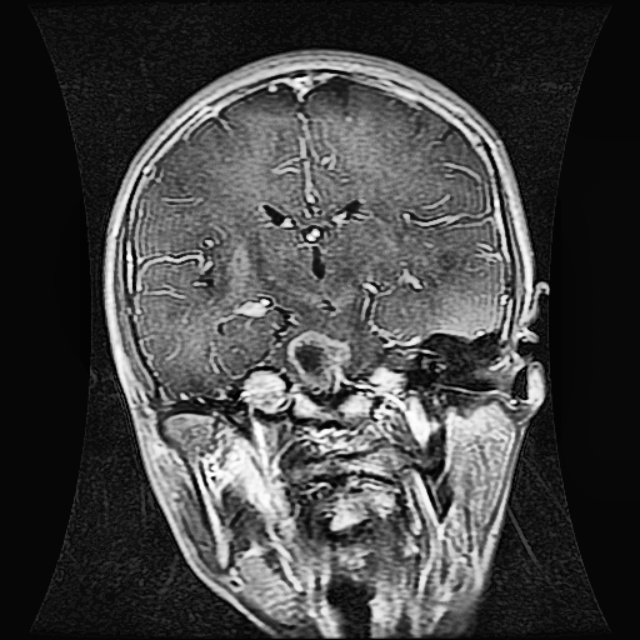Meningioma: (283, 329, 354, 398)
